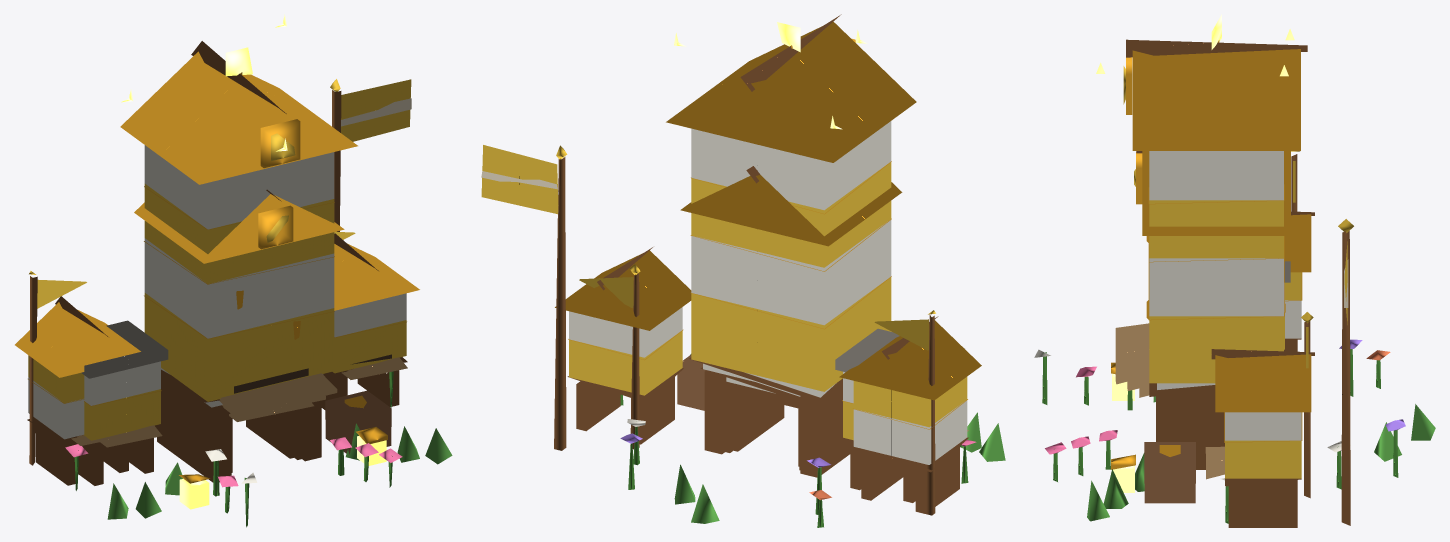
File: bee-apiary-lv-blocky_lod1.glb
3 views of the same model, side by side, from view 1: azimuth 30°, elevation 25°; view 2: azimuth 150°, elevation 25°; view 3: azimuth 270°, elevation 25° (orthographic). The views are drawn at different scales.
Visible parts, largest first — view 1: lv3, lv2, lv1; view 2: lv3, lv2, lv1; view 3: lv3, lv2, lv1.
Part boxes in pixels (<box>): lv3: <box>15,14,452,527</box>; lv2: <box>78,189,419,518</box>; lv1: <box>165,402,359,496</box>; lv3: <box>481,14,1005,527</box>; lv2: <box>579,166,981,514</box>; lv1: <box>726,377,800,466</box>; lv3: <box>1034,14,1435,527</box>; lv2: <box>1071,151,1401,508</box>; lv1: <box>1099,386,1155,491</box>.
Size of the model in its own units: 1.95 by 1.82 by 1.55.
